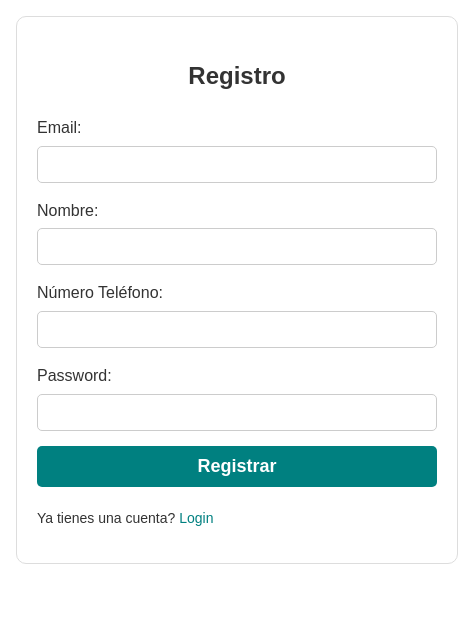
Test: RegisterPage › debería mostrar un mensaje de error si ocurre un error al registrar
Note: Llenar los campos del formulario
Step 1. Type "usuario@prueba.com" into the field labelled "Email:" → (237, 164), box [37,146,437,183]
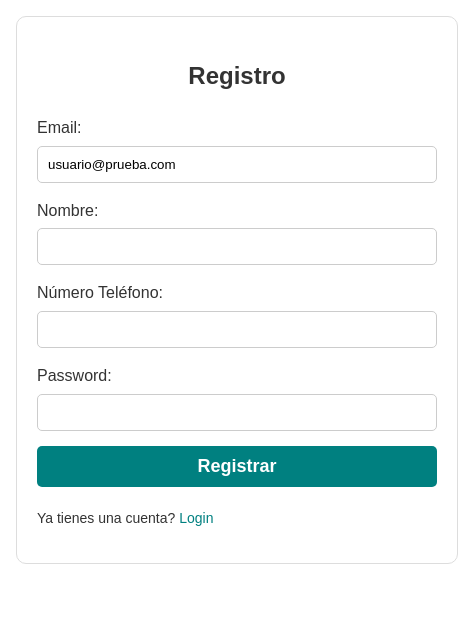
Step 2. Type "Usuario de prueba" into the field labelled "Nombre:" → (237, 247), box [37,228,437,266]
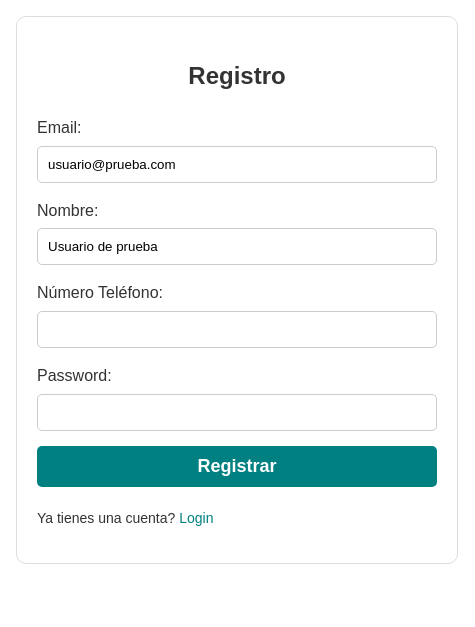
Step 3. Type "123456789" into the field labelled "Número Teléfono:" → (237, 330), box [37,311,437,348]
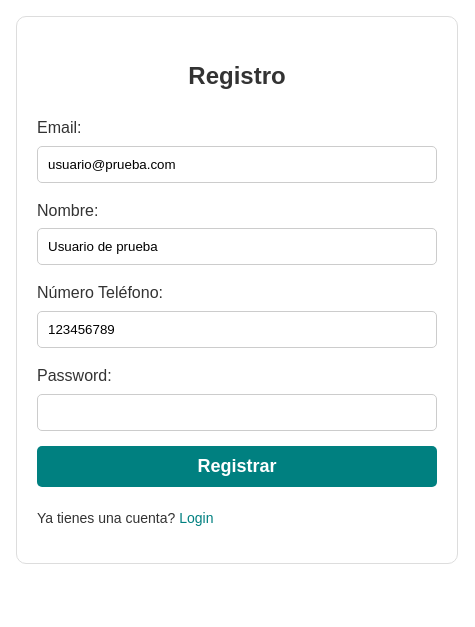
Step 4. Type "password123" into the password field labelled "Password:" → (237, 412), box [37,394,437,431]
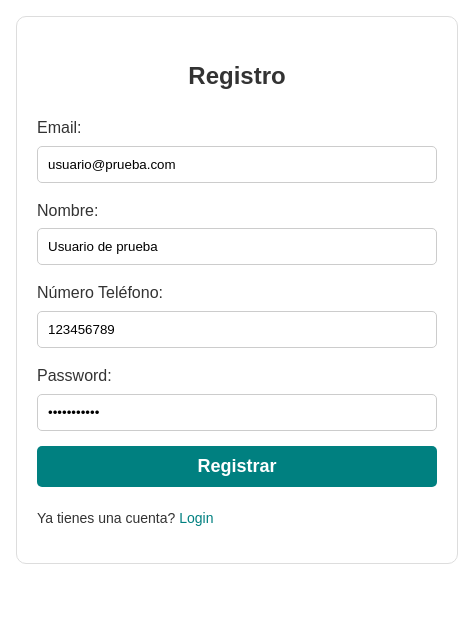
Note: Hacer clic en el botón de registro
Step 5. Click the button "Registrar" → (237, 466), box [37,446,437,487]
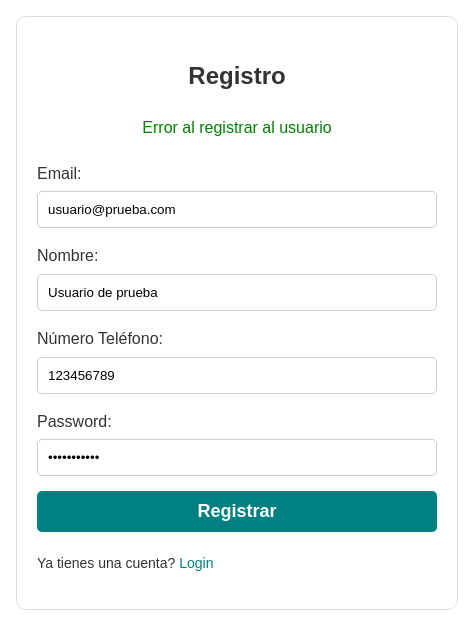
Expected: the text "Error al registrar al usuario" is shown, [142,119,332,136]
